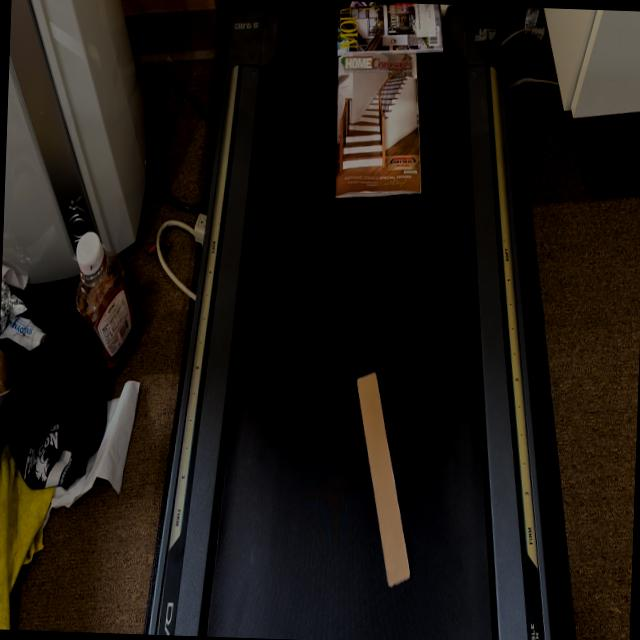Recycle: (338, 342, 448, 596)
Trash: (326, 1, 449, 228)
